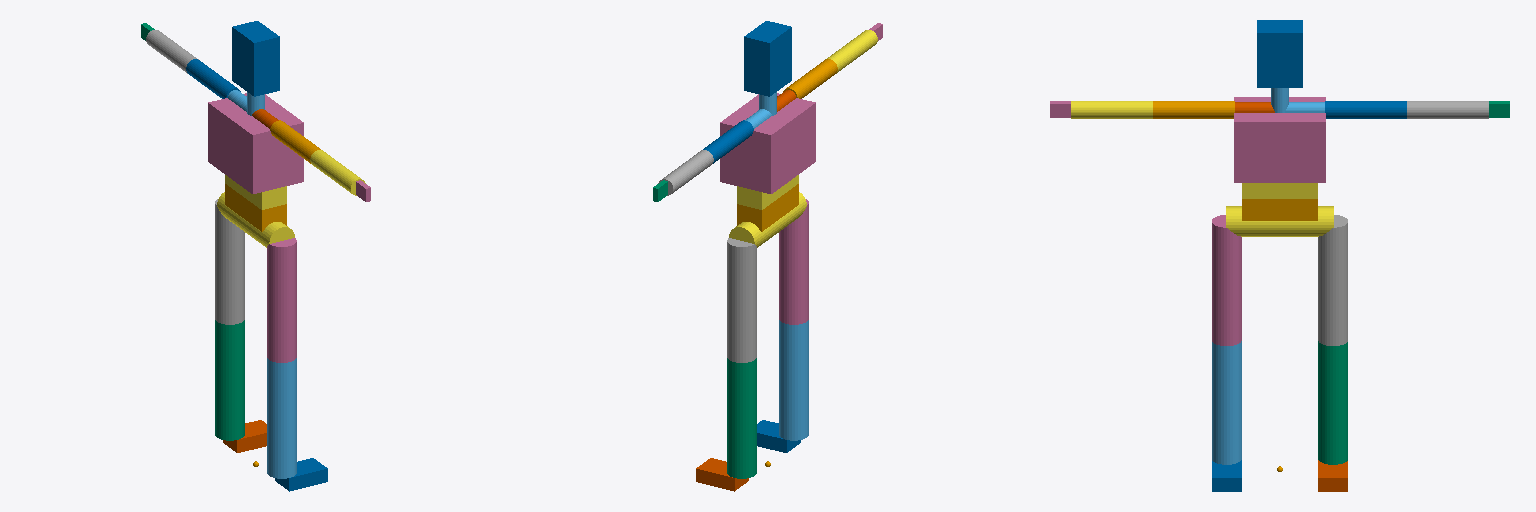
URDF robot description (human):
<?xml version="1.0"?>
<robot name="human">

  <link name="base_link">
    <visual>
      <geometry>
        <sphere radius="0.01"/>
      </geometry>
    </visual>
  </link>

<!--   HIP starts here  -->
  <link name="hip_roll"/>

  <joint name="hip_roll" type="continuous">
    <parent link="base_link" />
    <child link="hip_roll" />
    <origin xyz="0 0 0.90"/>
    <axis xyz="1.0 0 0"/>
  </joint>

  <link name="hip_pitch">
    
  </link>

  <joint name="hip_pitch" type="continuous">
    <parent link="hip_roll"/>
    <child link="hip_pitch"/>
    <origin xyz="0 0 0"/>
    <axis xyz="0 1.0 0"/>
  </joint>

  <link name="hip_yaw">
        <visual>
      <geometry>  
        <cylinder length="0.352" radius="0.05"/>
     </geometry>
      <origin rpy="1.57075 0 0" xyz="0 0 0" />
    </visual>
  </link>

  <joint name="hip_yaw" type="continuous">
    <parent link="hip_pitch"/>
    <child link="hip_yaw"/>
    <origin xyz="0 0 0"/>
    <axis xyz="0 0 1.0"/>
  </joint>

 <!--           HIP ENDS HERE        -->
 <!--      RIGHT THIGH STARTS HERE    -->
 <joint name="right_thigh_roll" type="continuous">
    <parent link="hip_yaw"/>
    <child link="right_thigh_roll"/>
    <origin xyz="0 -0.175 0"/>
    <axis xyz="1.0 0 0"/>
 </joint>

 <link name="right_thigh_roll"/>

 <joint name="right_thigh_pitch" type="continuous">
    <parent link="right_thigh_roll"/>
    <child link="right_thigh_pitch"/>
    <origin xyz="0 0 0"/>
    <axis xyz="0 1.0 0"/>
 </joint>

 <link name="right_thigh_pitch"/>

 <joint name="right_thigh_yaw" type="continuous">
    <parent link="right_thigh_pitch"/>
    <child link="right_thigh_yaw"/>
    <origin xyz="0 0 0"/>
    <axis xyz="0 0 1.0"/>
 </joint>

  <link name="right_thigh_yaw">
    <visual>
      <geometry>
        <cylinder length="0.43" radius="0.05"/>
      </geometry>      
      <origin rpy="0 0 0" xyz="0 0 -0.215"/>    
    </visual>
  </link>
<!--       RIGHT THIGH ENDS HERE       -->
<!--       RIGHT KNEE STARTS HERE      -->
<joint name="right_knee_roll" type="continuous">
  <parent link="right_thigh_yaw"/>
  <child link="right_knee_roll"/>
  <origin xyz="0 0 -0.43"/>
  <axis xyz="1.0 0 0"/>
</joint>

<link name="right_knee_roll"/>

<joint name="right_knee_pitch" type="continuous">
  <parent link="right_knee_roll"/>
  <child link="right_knee_pitch"/>
  <origin xyz="0 0 0"/>
  <axis xyz="0 1.0 0"/>
</joint>

<link name="right_knee_pitch"/>

<joint name="right_knee_yaw" type="continuous">
  <parent link="right_knee_pitch"/>
  <child link="right_knee_yaw"/>
  <origin xyz="0 0 0"/>
  <axis xyz="0 0 1.0"/>
</joint>

<link name="right_knee_yaw">
  <visual>
    <geometry>
      <cylinder length="0.43" radius="0.05"/>
    </geometry>      
    <origin rpy="0 0 0" xyz="0 0 -0.215"/>    
  </visual>
</link>
<!--         RIGHT KNEE ENDS HERE   -->
<!--         RIGHT FOOT STARTS HERE -->
<joint name="right_foot_roll" type="continuous">
  <parent link="right_knee_yaw"/>
  <child link="right_foot_roll"/>
  <origin xyz="0 0 -0.43"/>
  <axis xyz="1.0 0 0"/>
</joint> 

<link name="right_foot_roll"/>

<joint name="right_foot_pitch" type="continuous">
  <parent link="right_foot_roll"/>
  <child link="right_foot_pitch"/>
  <origin xyz="0 0 0"/>
  <axis xyz="0 1.0 0"/>
</joint> 

<link name="right_foot_pitch"/>

<joint name="right_foot_yaw" type="continuous">
  <parent link="right_foot_pitch"/>
  <child link="right_foot_yaw"/>
  <origin xyz="0 0 0"/>
  <axis xyz="0 0 1.0"/>
</joint> 

<link name="right_foot_yaw">
  <visual>
    <geometry>
        <box size="0.15 0.1 0.05"/>
    </geometry>
    <origin rpy="0 0 0" xyz="0.075 0 -0.025"/>    
   </visual>
</link>

<!--   RIGHT FOOT ENDS HERE   -->
<!--   LEFT THIGH STARTS HERE -->
 <joint name="left_thigh_roll" type="continuous">
    <parent link="hip_yaw"/>
    <child link="left_thigh_roll"/>
    <origin xyz="0 0.175 0"/>
    <axis xyz="1.0 0 0"/>
 </joint>

 <link name="left_thigh_roll"/>

 <joint name="left_thigh_pitch" type="continuous">
    <parent link="left_thigh_roll"/>
    <child link="left_thigh_pitch"/>
    <origin xyz="0 0 0"/>
    <axis xyz="0 1.0 0"/>
 </joint>

 <link name="left_thigh_pitch"/>

 <joint name="left_thigh_yaw" type="continuous">
    <parent link="left_thigh_pitch"/>
    <child link="left_thigh_yaw"/>
    <origin xyz="0 0 0"/>
    <axis xyz="0 0 1.0"/>
 </joint>

  <link name="left_thigh_yaw">
    <visual>
      <geometry>
        <cylinder length="0.43" radius="0.05"/>
      </geometry>      
      <origin rpy="0 0 0" xyz="0 0 -0.215"/>    
    </visual>
  </link>
<!--     LEFT THIGH ENDS HERE -->
<!--       LEFT KNEE STARTS HERE      -->
<joint name="left_knee_roll" type="continuous">
  <parent link="left_thigh_yaw"/>
  <child link="left_knee_roll"/>
  <origin xyz="0 0 -0.43"/>
  <axis xyz="1.0 0 0"/>
</joint>

<link name="left_knee_roll"/>

<joint name="left_knee_pitch" type="continuous">
  <parent link="left_knee_roll"/>
  <child link="left_knee_pitch"/>
  <origin xyz="0 0 0"/>
  <axis xyz="0 1.0 0"/>
</joint>

<link name="left_knee_pitch"/>

<joint name="left_knee_yaw" type="continuous">
  <parent link="left_knee_pitch"/>
  <child link="left_knee_yaw"/>
  <origin xyz="0 0 0"/>
  <axis xyz="0 0 1.0"/>
</joint>

<link name="left_knee_yaw">
  <visual>
    <geometry>
      <cylinder length="0.43" radius="0.05"/>
    </geometry>      
    <origin rpy="0 0 0" xyz="0 0 -0.215"/>    
  </visual>
</link>
<!--         left KNEE ENDS HERE   -->
<!--         left FOOT STARTS HERE -->
<joint name="left_foot_roll" type="continuous">
  <parent link="left_knee_yaw"/>
  <child link="left_foot_roll"/>
  <origin xyz="0 0 -0.43"/>
  <axis xyz="1.0 0 0"/>
</joint> 

<link name="left_foot_roll"/>

<joint name="left_foot_pitch" type="continuous">
  <parent link="left_foot_roll"/>
  <child link="left_foot_pitch"/>
  <origin xyz="0 0 0"/>
  <axis xyz="0 1.0 0"/>
</joint> 

<link name="left_foot_pitch"/>

<joint name="left_foot_yaw" type="continuous">
  <parent link="left_foot_pitch"/>
  <child link="left_foot_yaw"/>
  <origin xyz="0 0 0"/>
  <axis xyz="0 0 1.0"/>
</joint> 

<link name="left_foot_yaw">
  <visual>
    <geometry>
        <box size="0.15 0.1 0.05"/>
    </geometry>
    <origin rpy="0 0 0" xyz="0.075 0 -0.025"/>    
   </visual>
</link>
<!--   left FOOT ENDS HERE   -->
<!--   lower_spine STARTS HERE   -->
<joint name="lower_spine_roll" type="continuous">
  <parent link="hip_yaw"/>
  <child link="lower_spine_roll"/>
  <origin xyz="0 0 0.025"/>
  <axis xyz="1.0 0 0"/>
</joint>

<link name="lower_spine_roll"/>

<joint name="lower_spine_pitch" type="continuous">
  <parent link="lower_spine_roll"/>
  <child link="lower_spine_pitch"/>
  <origin xyz="0 0 0"/>
  <axis xyz="0 1.0 0"/>
</joint>

<link name="lower_spine_pitch"/>

<joint name="lower_spine_yaw" type="continuous">
  <parent link="lower_spine_pitch"/>
  <child link="lower_spine_yaw"/>
  <origin xyz="0 0 0"/>
  <axis xyz="0 0 1.0"/>
</joint>


<link name="lower_spine_yaw">
  <visual>
    <geometry>
        <box size="0.10 0.25 0.08"/>
    </geometry>
    <origin rpy="0 0 0" xyz="0 0 0.04"/>    
  </visual>
</link>

<!--  lower_spine ENDS HERE     -->
<!--  middle_spine Starts here  -->
<joint name="middle_spine_roll" type="continuous">
  <parent link="lower_spine_yaw"/>
  <child link="middle_spine_roll"/>
  <origin xyz="0 0 0.08"/>
  <axis xyz="1.0 0 0"/>
</joint>

<link name="middle_spine_roll"/>

<joint name="middle_spine_pitch" type="continuous">
  <parent link="middle_spine_roll"/>
  <child link="middle_spine_pitch"/>
  <origin xyz="0 0 0"/>
  <axis xyz="0 1.0 0"/>
</joint>

<link name="middle_spine_pitch"/>

<joint name="middle_spine_yaw" type="continuous">
  <parent link="middle_spine_pitch"/>
  <child link="middle_spine_yaw"/>
  <origin xyz="0 0 0"/>
  <axis xyz="0 0 1.0"/>
</joint>

<link name="middle_spine_yaw">
  <visual>
    <geometry>
        <box size="0.10 0.25 0.08"/>
    </geometry>
    <origin rpy="0 0 0" xyz="0 0 0.04"/>    
  </visual>
</link>

<!--  middle_spine Ends here    -->
<!--  CHEST STARTS HERE     -->
<joint name="chest_roll" type="continuous">
  <parent link="middle_spine_yaw"/>
  <child link="chest_roll"/>
  <origin xyz="0 0 0.08"/>
  <axis xyz="1.0 0 0"/>
</joint>

<link name="chest_roll"/>

<joint name="chest_pitch" type="continuous">
  <parent link="chest_roll"/>
  <child link="chest_pitch"/>
  <origin xyz="0 0 0"/>
  <axis xyz="0 1.0 0"/>
</joint>

<link name="chest_pitch"/>

<joint name="chest_yaw" type="continuous">
  <parent link="chest_pitch"/>
  <child link="chest_yaw"/>
  <origin xyz="0 0 0"/>
  <axis xyz="0 0 1.0"/>
</joint>

<link name="chest_yaw">
  <visual>
    <geometry>
        <box size="0.20 0.30 0.22"/>
    </geometry>
    <origin rpy="0 0 0" xyz="0 0 0.11"/>    
  </visual>
</link>
<!--     Chest ends here            -->
<!--     left clavicle starts here  -->
<joint name="left_clavicle_roll" type="continuous">
  <parent link="chest_yaw"/>
  <child link="left_clavicle_roll"/>
  <origin xyz="0 0.0125 0.22"/>
  <axis xyz="1.0 0 0"/>
</joint>

<link name="left_clavicle_roll"/>

<joint name="left_clavicle_pitch" type="continuous">
  <parent link="left_clavicle_roll"/>
  <child link="left_clavicle_pitch"/>
  <origin xyz="0 0 0"/>
  <axis xyz="0 1.0 0"/>
</joint>

<link name="left_clavicle_pitch"/>

<joint name="left_clavicle_yaw" type="continuous">
  <parent link="left_clavicle_pitch"/>
  <child link="left_clavicle_yaw"/>
  <origin xyz="0 0 0"/>
  <axis xyz="0 0 1.0"/>
</joint>

<link name="left_clavicle_yaw">
  <visual>
    <geometry>
      <cylinder length="0.135" radius="0.025"/> 
    </geometry>
    <origin rpy="1.57075 0 0" xyz="0 0.067 0" />
  </visual>
</link>
<!-- left clavicle ends here   -->
<!-- left shoulder starts here -->
<joint name="left_shoulder_roll" type="continuous">
  <parent link="left_clavicle_yaw"/>
  <child link="left_shoulder_roll"/>
  <origin xyz="0 0.135 0"/>
  <axis xyz="1.0 0 0"/>
</joint>

<link name="left_shoulder_roll"/>

<joint name="left_shoulder_pitch" type="continuous">
  <parent link="left_shoulder_roll"/>
  <child link="left_shoulder_pitch"/>
  <origin xyz="0 0 0"/>
  <axis xyz="0 1.0 0"/>
</joint>

<link name="left_shoulder_pitch"/>

<joint name="left_shoulder_yaw" type="continuous">
  <parent link="left_shoulder_pitch"/>
  <child link="left_shoulder_yaw"/>
  <origin xyz="0 0 0"/>
  <axis xyz="0 0 1.0"/>
</joint>

<link name="left_shoulder_yaw">
  <visual>
    <geometry>
      <cylinder length="0.27" radius="0.030"/> 
    </geometry>
    <origin rpy="1.57075 0 0" xyz="0 0.135 0" />
  </visual>
</link>
<!-- left shoulder ends here -->
<!-- left elbow starts here -->
<joint name="left_elbow_roll" type="continuous">
  <parent link="left_shoulder_yaw"/>
  <child link="left_elbow_roll"/>
  <origin xyz="0 0.27 0"/>
  <axis xyz="1.0 0 0"/>
</joint>

<link name="left_elbow_roll"/>

<joint name="left_elbow_pitch" type="continuous">
  <parent link="left_elbow_roll"/>
  <child link="left_elbow_pitch"/>
  <origin xyz="0 0 0"/>
  <axis xyz="0 1.0 0"/>
</joint>

<link name="left_elbow_pitch"/>

<joint name="left_elbow_yaw" type="continuous">
  <parent link="left_elbow_pitch"/>
  <child link="left_elbow_yaw"/>
  <origin xyz="0 0 0"/>
  <axis xyz="0 0 1.0"/>
</joint>

<link name="left_elbow_yaw">
  <visual>
    <geometry>
      <cylinder length="0.27" radius="0.030"/> 
    </geometry>
    <origin rpy="1.57075 0 0" xyz="0 0.135 0" />
  </visual>
</link>
<!-- left elbow ends here   -->
<!-- left hand starts here  -->
<joint name="left_hand_roll" type="continuous">
  <parent link="left_elbow_yaw"/>
  <child link="left_hand_roll"/>
  <origin xyz="0 0.24 0"/>
  <axis xyz="1.0 0 0"/>
</joint>

<link name="left_hand_roll"/>

<joint name="left_hand_pitch" type="continuous">
  <parent link="left_hand_roll"/>
  <child link="left_hand_pitch"/>
  <origin xyz="0 0 0"/>
  <axis xyz="0 1.0 0"/>
</joint>

<link name="left_hand_pitch"/>

<joint name="left_hand_yaw" type="continuous">
  <parent link="left_hand_pitch"/>
  <child link="left_hand_yaw"/>
  <origin xyz="0 0 0"/>
  <axis xyz="0 0 1.0"/>
</joint>

<link name="left_hand_yaw">
  <visual>
    <geometry>
      <box size="0.02 0.10 0.05"/> 
    </geometry>
    <origin xyz="0 0.05 0" />
  </visual>
</link>
<!-- left hand ends here    -->

<joint name="right_clavicle_roll" type="continuous">
  <parent link="chest_yaw"/>
  <child link="right_clavicle_roll"/>
  <origin xyz="0 -0.0125 0.22"/>
  <axis xyz="1.0 0 0"/>
</joint>

<link name="right_clavicle_roll"/>

<joint name="right_clavicle_pitch" type="continuous">
  <parent link="right_clavicle_roll"/>
  <child link="right_clavicle_pitch"/>
  <origin xyz="0 0 0"/>
  <axis xyz="0 1.0 0"/>
</joint>

<link name="right_clavicle_pitch"/>

<joint name="right_clavicle_yaw" type="continuous">
  <parent link="right_clavicle_pitch"/>
  <child link="right_clavicle_yaw"/>
  <origin xyz="0 0 0"/>
  <axis xyz="0 0 1.0"/>
</joint>

<link name="right_clavicle_yaw">
  <visual>
    <geometry>
      <cylinder length="0.135" radius="0.025"/> 
    </geometry>
    <origin rpy="1.57075 0 0" xyz="0 -0.067 0" />
  </visual>
</link>
<!-- right clavicle ends here   -->
<!-- right shoulder starts here -->
<joint name="right_shoulder_roll" type="continuous">
  <parent link="right_clavicle_yaw"/>
  <child link="right_shoulder_roll"/>
  <origin xyz="0 -0.135 0"/>
  <axis xyz="1.0 0 0"/>
</joint>

<link name="right_shoulder_roll"/>

<joint name="right_shoulder_pitch" type="continuous">
  <parent link="right_shoulder_roll"/>
  <child link="right_shoulder_pitch"/>
  <origin xyz="0 0 0"/>
  <axis xyz="0 1.0 0"/>
</joint>

<link name="right_shoulder_pitch"/>

<joint name="right_shoulder_yaw" type="continuous">
  <parent link="right_shoulder_pitch"/>
  <child link="right_shoulder_yaw"/>
  <origin xyz="0 0 0"/>
  <axis xyz="0 0 1.0"/>
</joint>

<link name="right_shoulder_yaw">
  <visual>
    <geometry>
      <cylinder length="0.27" radius="0.030"/> 
    </geometry>
    <origin rpy="1.57075 0 0" xyz="0 -0.135 0" />
  </visual>
</link>
<!-- right shoulder ends here -->
<!-- right elbow starts here -->
<joint name="right_elbow_roll" type="continuous">
  <parent link="right_shoulder_yaw"/>
  <child link="right_elbow_roll"/>
  <origin xyz="0 -0.27 0"/>
  <axis xyz="1.0 0 0"/>
</joint>

<link name="right_elbow_roll"/>

<joint name="right_elbow_pitch" type="continuous">
  <parent link="right_elbow_roll"/>
  <child link="right_elbow_pitch"/>
  <origin xyz="0 0 0"/>
  <axis xyz="0 1.0 0"/>
</joint>

<link name="right_elbow_pitch"/>

<joint name="right_elbow_yaw" type="continuous">
  <parent link="right_elbow_pitch"/>
  <child link="right_elbow_yaw"/>
  <origin xyz="0 0 0"/>
  <axis xyz="0 0 1.0"/>
</joint>

<link name="right_elbow_yaw">
  <visual>
    <geometry>
      <cylinder length="0.27" radius="0.030"/> 
    </geometry>
    <origin rpy="1.57075 0 0" xyz="0 -0.135 0" />
  </visual>
</link>
<!-- right elbow ends here   -->
<!-- right hand starts here  -->
<joint name="right_hand_roll" type="continuous">
  <parent link="right_elbow_yaw"/>
  <child link="right_hand_roll"/>
  <origin xyz="0 -0.24 0"/>
  <axis xyz="1.0 0 0"/>
</joint>

<link name="right_hand_roll"/>

<joint name="right_hand_pitch" type="continuous">
  <parent link="right_hand_roll"/>
  <child link="right_hand_pitch"/>
  <origin xyz="0 0 0"/>
  <axis xyz="0 1.0 0"/>
</joint>

<link name="right_hand_pitch"/>

<joint name="right_hand_yaw" type="continuous">
  <parent link="right_hand_pitch"/>
  <child link="right_hand_yaw"/>
  <origin xyz="0 0 0"/>
  <axis xyz="0 0 1.0"/>
</joint>

<link name="right_hand_yaw">
  <visual>
    <geometry>
      <box size="0.02 0.10 0.05"/> 
    </geometry>
    <origin xyz="0 -0.05 0" />
  </visual>
</link>
<!-- right hand ends here    -->

<!-- neck starts here   -->
<joint name="neck_roll" type="continuous">
  <parent link="chest_yaw"/>
  <child link="neck_roll"/>
  <origin xyz="0 0 0.22"/>
  <axis xyz="1.0 0 0"/>
</joint>

<link name="neck_roll"/>

<joint name="neck_pitch" type="continuous">
  <parent link="neck_roll"/>
  <child link="neck_pitch"/>
  <origin xyz="0 0 0"/>
  <axis xyz="0 1.0 0"/>
</joint>

<link name="neck_pitch"/>

<joint name="neck_yaw" type="continuous">
  <parent link="neck_pitch"/>
  <child link="neck_yaw"/>
  <origin xyz="0 0 0"/>
  <axis xyz="0 0 1.0"/>
</joint>

<link name="neck_yaw">
  <visual>
    <geometry>
      <cylinder length="0.10" radius="0.03"/> 
    </geometry>
    <origin xyz="0 0 0.05" />
  </visual>
</link>
<!-- neck ends here -->
<!-- head starts here -->
<joint name="head_roll" type="continuous">
  <parent link="neck_yaw"/>
  <child link="head_roll"/>
  <origin xyz="0 0 0.10"/>
  <axis xyz="1.0 0 0"/>
</joint>

<link name="head_roll"/>

<joint name="head_pitch" type="continuous">
  <parent link="head_roll"/>
  <child link="head_pitch"/>
  <origin xyz="0 0 0"/>
  <axis xyz="0 1.0 0"/>
</joint>

<link name="head_pitch"/>

<joint name="head_yaw" type="continuous">
  <parent link="head_pitch"/>
  <child link="head_yaw"/>
  <origin xyz="0 0 0"/>
  <axis xyz="0 0 1.0"/>
</joint>

<link name="head_yaw">
  <visual>
    <geometry>
      <box size="0.10 0.15 0.20"/> 
    </geometry>
    <origin xyz="0 0 0.10" />
  </visual>
</link>
<!-- head ends here -->
</robot>

--- Render facts (derived) ---
3 views of the same robot in one strip: view 1: azimuth 30°, elevation 25°; view 2: azimuth 150°, elevation 25°; view 3: azimuth 270°, elevation 25° (orthographic).
Robot: human — 61 links, 60 joints (60 continuous); root link base_link; default pose: all joints at 0.
Visible links, largest first — view 1: chest_yaw, right_thigh_yaw, right_knee_yaw, left_knee_yaw, head_yaw, left_thigh_yaw, lower_spine_yaw, hip_yaw, right_foot_yaw, right_elbow_yaw, left_shoulder_yaw, left_elbow_yaw (+3 smaller); view 2: chest_yaw, left_thigh_yaw, right_knee_yaw, left_knee_yaw, head_yaw, right_thigh_yaw, lower_spine_yaw, hip_yaw, left_foot_yaw, left_elbow_yaw, right_shoulder_yaw, right_elbow_yaw (+3 smaller); view 3: chest_yaw, right_thigh_yaw, left_thigh_yaw, right_knee_yaw, left_knee_yaw, head_yaw, hip_yaw, lower_spine_yaw, left_elbow_yaw, right_elbow_yaw, left_shoulder_yaw, right_shoulder_yaw (+3 smaller).
Link boxes in pixels (left/top/right/bottom): chest_yaw: left=208, top=93, right=303, bottom=193; right_thigh_yaw: left=267, top=238, right=296, bottom=362; right_knee_yaw: left=267, top=358, right=296, bottom=478; left_knee_yaw: left=215, top=320, right=244, bottom=440; head_yaw: left=232, top=21, right=279, bottom=96; left_thigh_yaw: left=215, top=199, right=244, bottom=324; lower_spine_yaw: left=225, top=184, right=286, bottom=231; hip_yaw: left=217, top=192, right=294, bottom=247; right_foot_yaw: left=275, top=458, right=327, bottom=491; right_elbow_yaw: left=310, top=150, right=365, bottom=195; left_shoulder_yaw: left=186, top=59, right=240, bottom=98; left_elbow_yaw: left=146, top=30, right=198, bottom=73; chest_yaw: left=720, top=93, right=815, bottom=193; left_thigh_yaw: left=727, top=238, right=756, bottom=362; right_knee_yaw: left=779, top=320, right=808, bottom=440; left_knee_yaw: left=727, top=358, right=756, bottom=478; head_yaw: left=744, top=21, right=791, bottom=96; right_thigh_yaw: left=779, top=199, right=808, bottom=324; lower_spine_yaw: left=737, top=184, right=798, bottom=231; hip_yaw: left=729, top=192, right=806, bottom=247; left_foot_yaw: left=696, top=458, right=748, bottom=491; left_elbow_yaw: left=658, top=150, right=713, bottom=195; right_shoulder_yaw: left=783, top=59, right=837, bottom=98; right_elbow_yaw: left=825, top=30, right=877, bottom=73; chest_yaw: left=1234, top=97, right=1325, bottom=182; right_thigh_yaw: left=1212, top=215, right=1241, bottom=345; left_thigh_yaw: left=1318, top=215, right=1347, bottom=345; right_knee_yaw: left=1212, top=341, right=1241, bottom=464; left_knee_yaw: left=1318, top=341, right=1347, bottom=464; head_yaw: left=1257, top=20, right=1302, bottom=87; hip_yaw: left=1226, top=206, right=1333, bottom=236; lower_spine_yaw: left=1242, top=199, right=1317, bottom=220; left_elbow_yaw: left=1407, top=101, right=1488, bottom=118; right_elbow_yaw: left=1071, top=101, right=1152, bottom=118; left_shoulder_yaw: left=1325, top=101, right=1406, bottom=118; right_shoulder_yaw: left=1153, top=101, right=1234, bottom=118.
Bounding box of the posed robot: 0.25 × 1.51 × 1.61 m (x, y, z).
Geometry: primitives only (box / cylinder / sphere), no mesh files.
